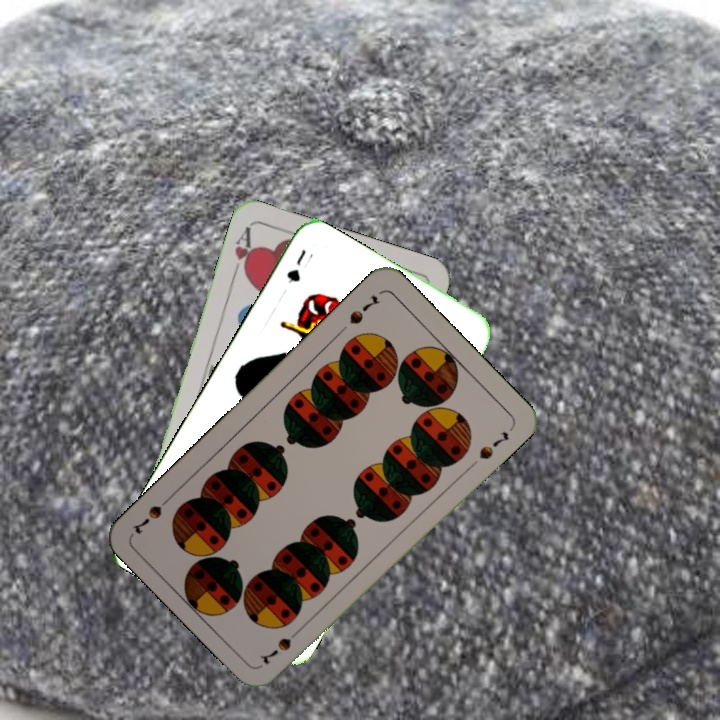GU: (282, 245, 309, 286)
HA: (228, 223, 257, 281)
S7: (256, 623, 306, 667), (345, 291, 382, 327)
